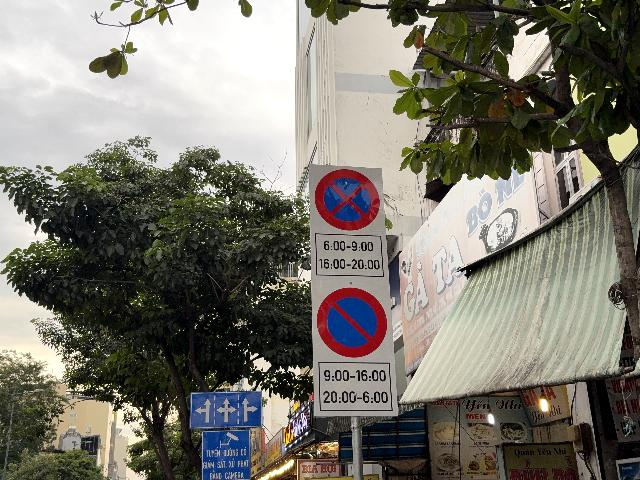cam-do-xe: (316, 286, 387, 358)
cam-dung-va-do-xe: (315, 168, 380, 230)
